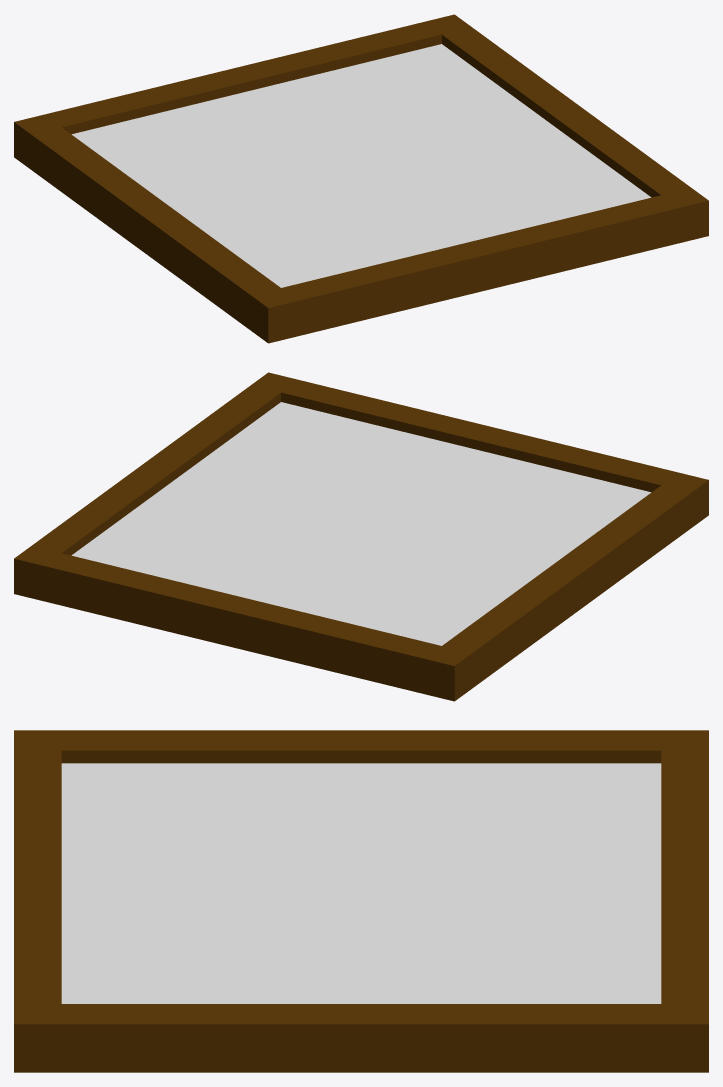
File: Tablero.fbx
The picture shows the model from 3 angles, top to bottom: view 1: azimuth 30°, elevation 25°; view 2: azimuth 150°, elevation 25°; view 3: azimuth 270°, elevation 25°; orthographic projection. The views are drawn at different scales.
Visible parts, largest first — view 1: Cube; view 2: Cube; view 3: Cube.
Boxes of the visible parts, bbox=[...] form: Cube: bbox=[14, 14, 708, 343]; Cube: bbox=[14, 372, 708, 701]; Cube: bbox=[14, 730, 708, 1072].
Size of the model in its own units: 656 by 50.35 by 656.
